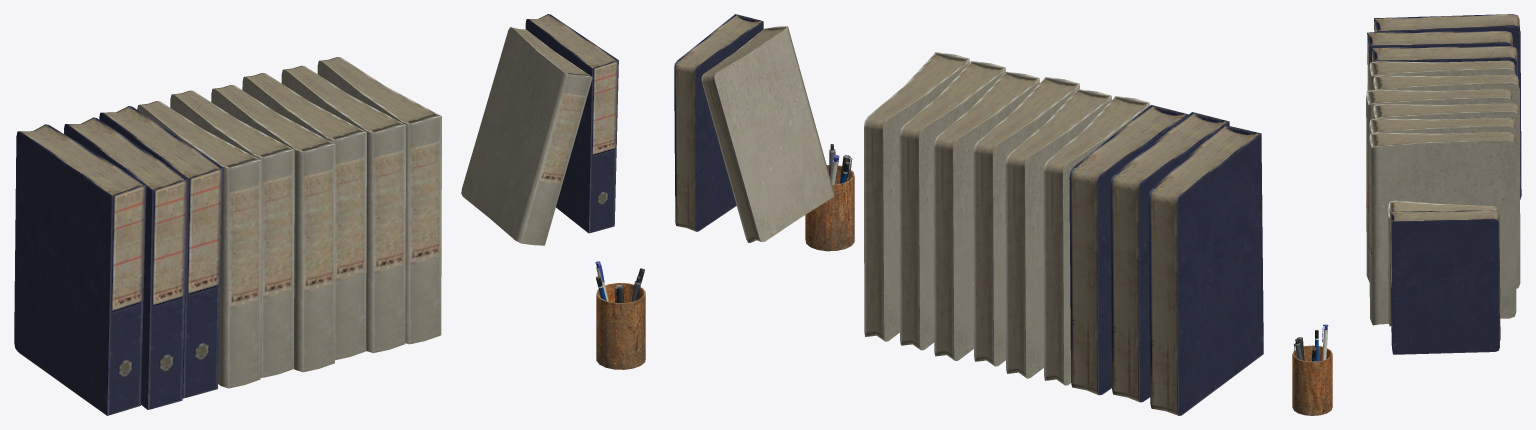
Rendered from sm39_016_leondeskset01a.fbx.
3 renders of one model, left to right at view 1: azimuth 30°, elevation 25°; view 2: azimuth 150°, elevation 25°; view 3: azimuth 270°, elevation 25°, orthographic. The views are drawn at different scales.
Visible parts, largest first — view 1: LOD_1_Group_4_Sub_1__sm36_007_PaperWork01A_A_Mat, LOD_1_Group_6_Sub_1__sm36_007_PaperWork01A_A_Mat, LOD_1_Group_5_Sub_1__sm36_007_PaperWork01A_A_Mat, LOD_1_Group_0_Sub_1__sm36_031_Penholder01A_E_Mat; view 2: LOD_1_Group_4_Sub_1__sm36_007_PaperWork01A_A_Mat, LOD_1_Group_6_Sub_1__sm36_007_PaperWork01A_A_Mat, LOD_1_Group_5_Sub_1__sm36_007_PaperWork01A_A_Mat, LOD_1_Group_0_Sub_1__sm36_031_Penholder01A_E_Mat; view 3: LOD_1_Group_4_Sub_1__sm36_007_PaperWork01A_A_Mat, LOD_1_Group_5_Sub_1__sm36_007_PaperWork01A_A_Mat, LOD_1_Group_0_Sub_1__sm36_031_Penholder01A_E_Mat, LOD_1_Group_6_Sub_1__sm36_007_PaperWork01A_A_Mat.
Part boxes in pixels (left/top/right/bottom): LOD_1_Group_4_Sub_1__sm36_007_PaperWork01A_A_Mat: left=14, top=57, right=441, bottom=415; LOD_1_Group_6_Sub_1__sm36_007_PaperWork01A_A_Mat: left=461, top=27, right=592, bottom=245; LOD_1_Group_5_Sub_1__sm36_007_PaperWork01A_A_Mat: left=525, top=14, right=618, bottom=233; LOD_1_Group_0_Sub_1__sm36_031_Penholder01A_E_Mat: left=595, top=261, right=645, bottom=369; LOD_1_Group_4_Sub_1__sm36_007_PaperWork01A_A_Mat: left=864, top=52, right=1263, bottom=415; LOD_1_Group_6_Sub_1__sm36_007_PaperWork01A_A_Mat: left=701, top=26, right=834, bottom=242; LOD_1_Group_5_Sub_1__sm36_007_PaperWork01A_A_Mat: left=674, top=14, right=763, bottom=231; LOD_1_Group_0_Sub_1__sm36_031_Penholder01A_E_Mat: left=805, top=144, right=854, bottom=251; LOD_1_Group_4_Sub_1__sm36_007_PaperWork01A_A_Mat: left=1366, top=14, right=1521, bottom=325; LOD_1_Group_5_Sub_1__sm36_007_PaperWork01A_A_Mat: left=1390, top=210, right=1500, bottom=354; LOD_1_Group_0_Sub_1__sm36_031_Penholder01A_E_Mat: left=1292, top=324, right=1332, bottom=415; LOD_1_Group_6_Sub_1__sm36_007_PaperWork01A_A_Mat: left=1388, top=200, right=1497, bottom=326.
Bounding box in the file's own units: 0.7992 × 0.3687 × 0.3732.
